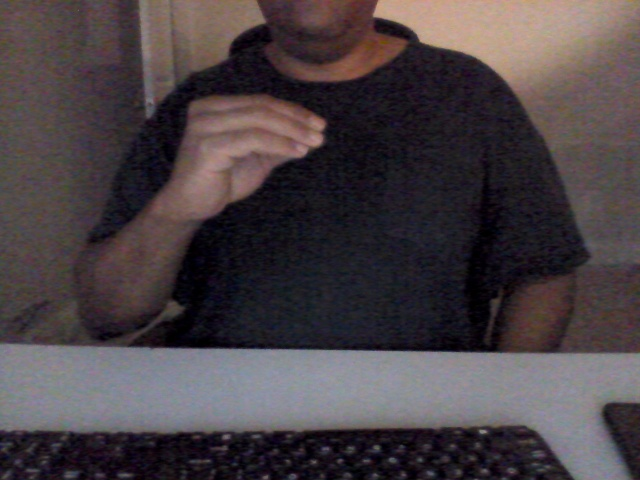eat: (158, 87, 340, 230)
